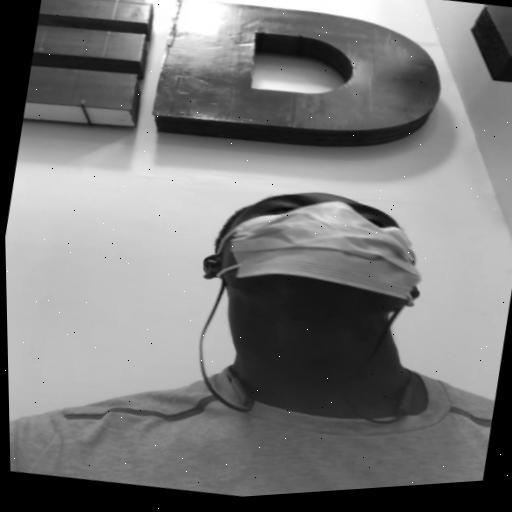mask: (204, 166, 435, 336)
